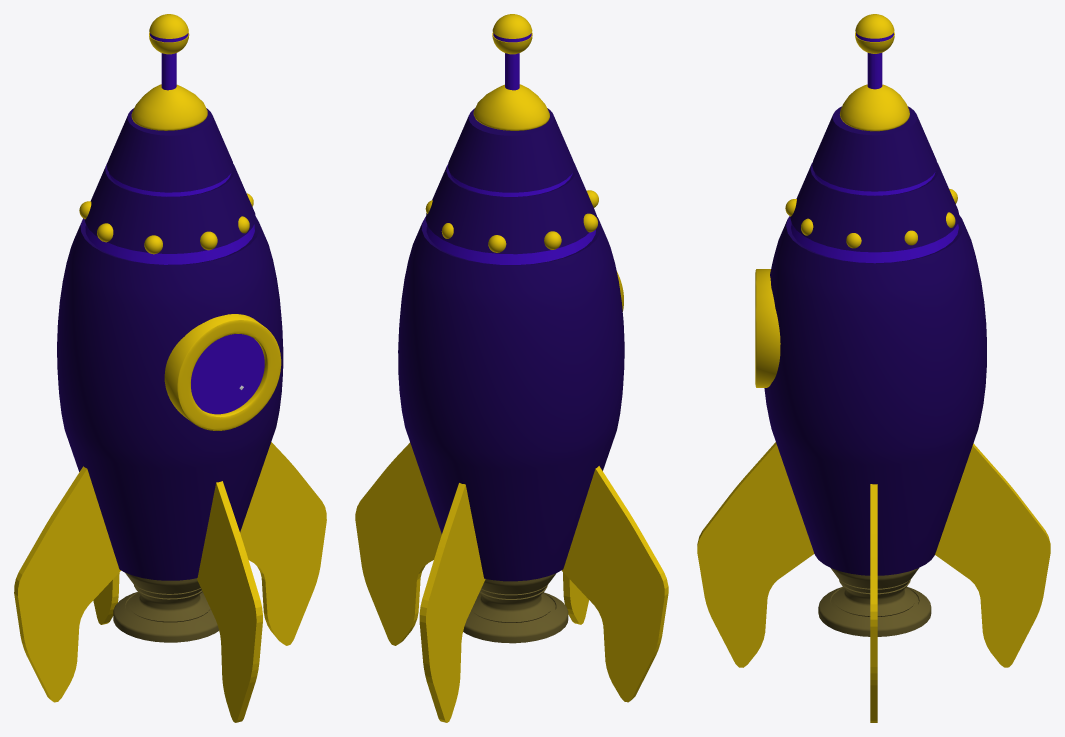
File: rocket2.glb
3 renders of one model, left to right at view 1: azimuth 30°, elevation 25°; view 2: azimuth 150°, elevation 25°; view 3: azimuth 270°, elevation 25°, orthographic.
Visible parts, largest first — view 1: Cylinder, Plane.002, Plane, Cylinder.002, Plane.003, Cylinder.003, Sphere, Sphere.001, Sphere.002, Plane.001, Cylinder.001; view 2: Cylinder, Plane.002, Plane, Plane.001, Cylinder.003, Sphere, Sphere.001, Sphere.002, Plane.003, Cylinder.001; view 3: Cylinder, Plane.003, Plane.001, Cylinder.003, Cylinder.002, Sphere, Plane, Sphere.001, Sphere.002, Cylinder.001.
Boxes of the visible parts, x1=… form: Cylinder: x1=57, y1=108, x2=283, y2=580; Plane.002: x1=14, y1=466, x2=120, y2=702; Plane: x1=240, y1=442, x2=326, y2=645; Cylinder.002: x1=164, y1=314, x2=281, y2=430; Plane.003: x1=196, y1=481, x2=262, y2=722; Cylinder.003: x1=113, y1=572, x2=218, y2=642; Sphere: x1=131, y1=84, x2=207, y2=130; Sphere.001: x1=149, y1=14, x2=189, y2=54; Sphere.002: x1=79, y1=193, x2=253, y2=254; Plane.001: x1=93, y1=572, x2=119, y2=624; Cylinder.001: x1=161, y1=53, x2=176, y2=90; Cylinder: x1=398, y1=108, x2=624, y2=581; Plane.002: x1=562, y1=466, x2=668, y2=702; Plane: x1=355, y1=442, x2=441, y2=645; Plane.001: x1=419, y1=483, x2=485, y2=722; Cylinder.003: x1=463, y1=573, x2=568, y2=643; Sphere: x1=473, y1=84, x2=549, y2=130; Sphere.001: x1=492, y1=14, x2=532, y2=54; Sphere.002: x1=425, y1=190, x2=598, y2=252; Plane.003: x1=563, y1=572, x2=588, y2=624; Cylinder.001: x1=505, y1=53, x2=519, y2=90; Cylinder: x1=764, y1=106, x2=986, y2=575; Plane.003: x1=697, y1=442, x2=814, y2=667; Plane.001: x1=935, y1=443, x2=1050, y2=667; Cylinder.003: x1=818, y1=568, x2=931, y2=636; Cylinder.002: x1=755, y1=269, x2=780, y2=387; Sphere: x1=840, y1=84, x2=909, y2=131; Plane: x1=870, y1=484, x2=877, y2=722; Sphere.001: x1=855, y1=14, x2=894, y2=53; Sphere.002: x1=785, y1=188, x2=957, y2=248; Cylinder.001: x1=867, y1=53, x2=882, y2=89.
Size of the model in its own units: 0.3741 by 0.7597 by 0.3741.
